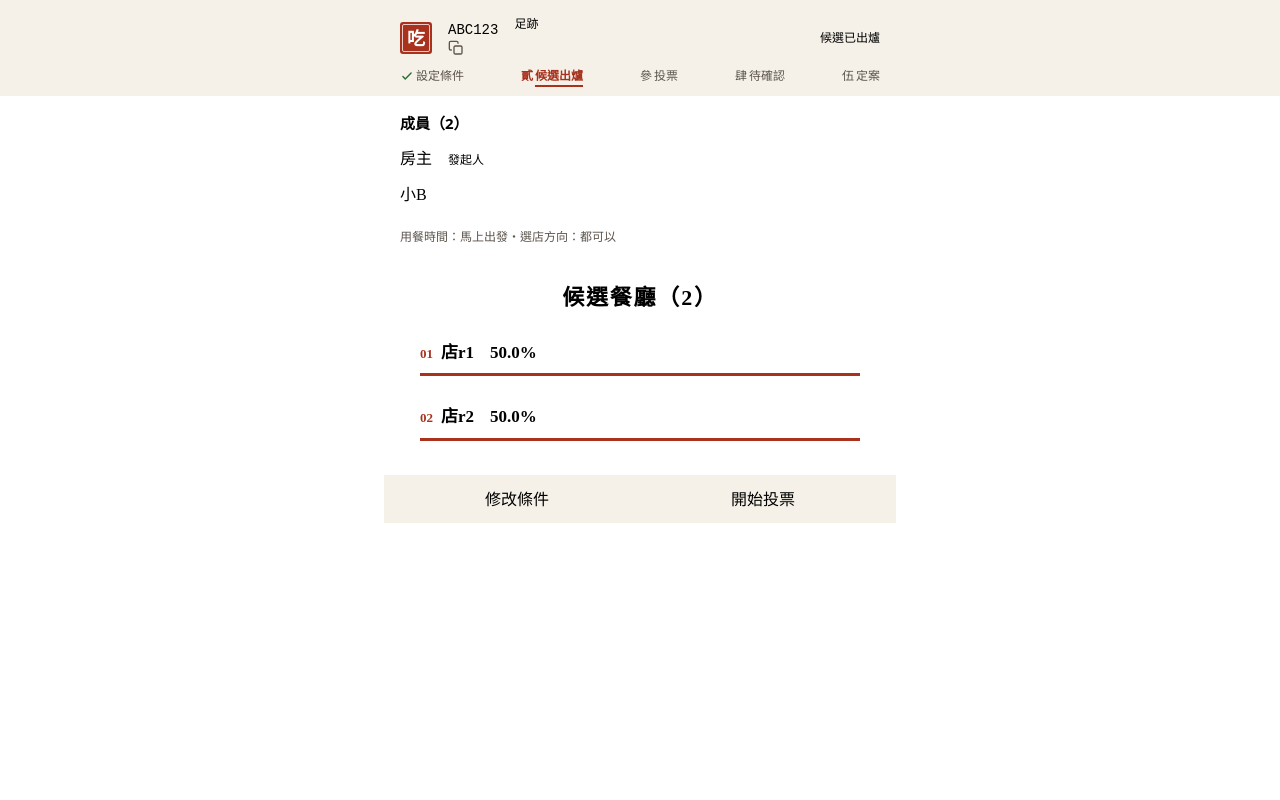
Test: RoomPage 候選出爐：房主動作 › 修改條件錯誤顯示在既有 action alert 且不 refetch
Click the button "修改條件".
click(517, 498)  # box [400,486,634,510]
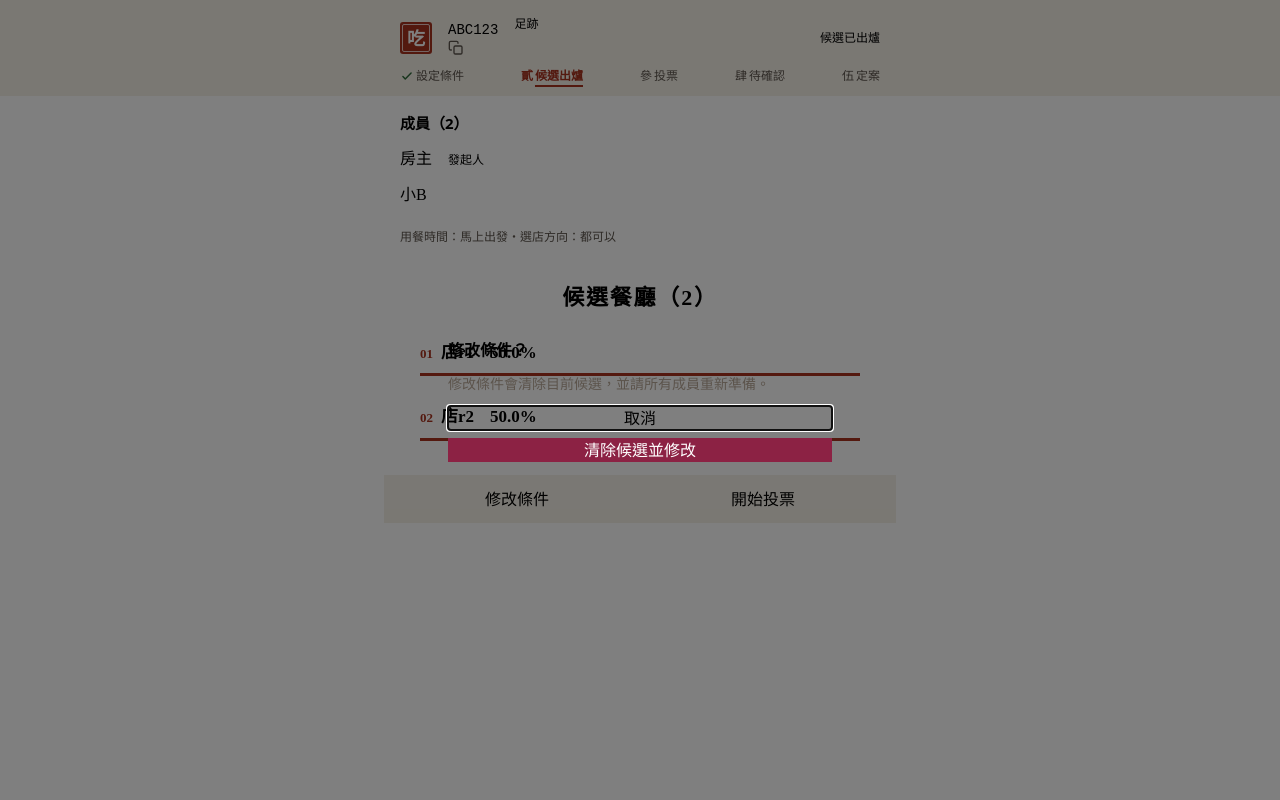
Click the button "清除候選並修改".
click(640, 450)  # box [448,438,832,462]
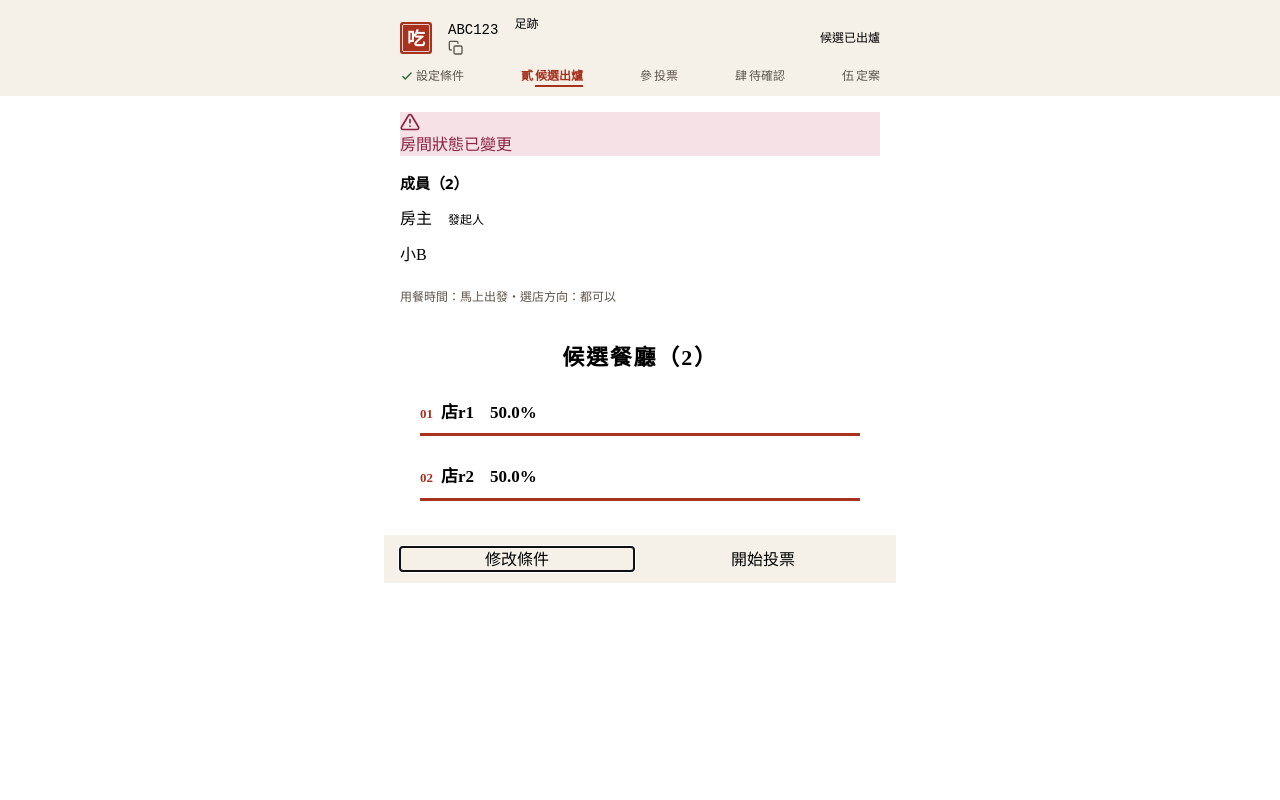
Expected: the text "房間狀態已變更" is shown, [400,133,512,155]
